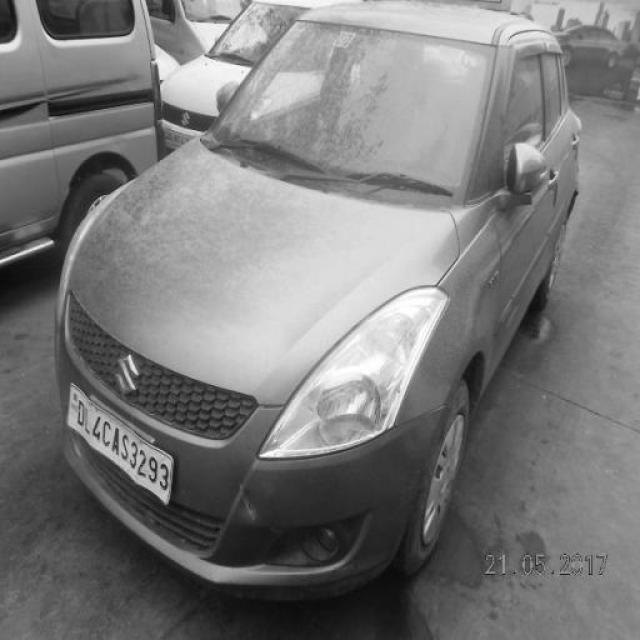scratch: (238, 479, 263, 525)
